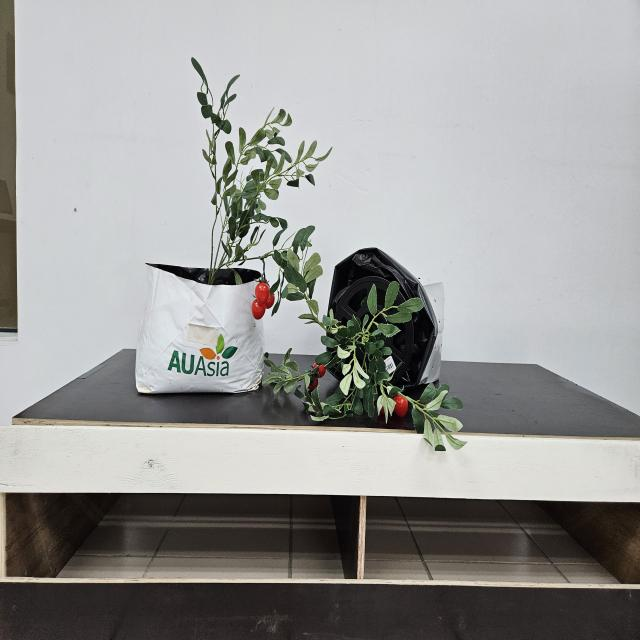Obstacle: (283, 249, 453, 456)
Soilbag: (135, 264, 265, 395)
Tomato: (249, 275, 279, 323)
plant: (191, 58, 332, 322)
